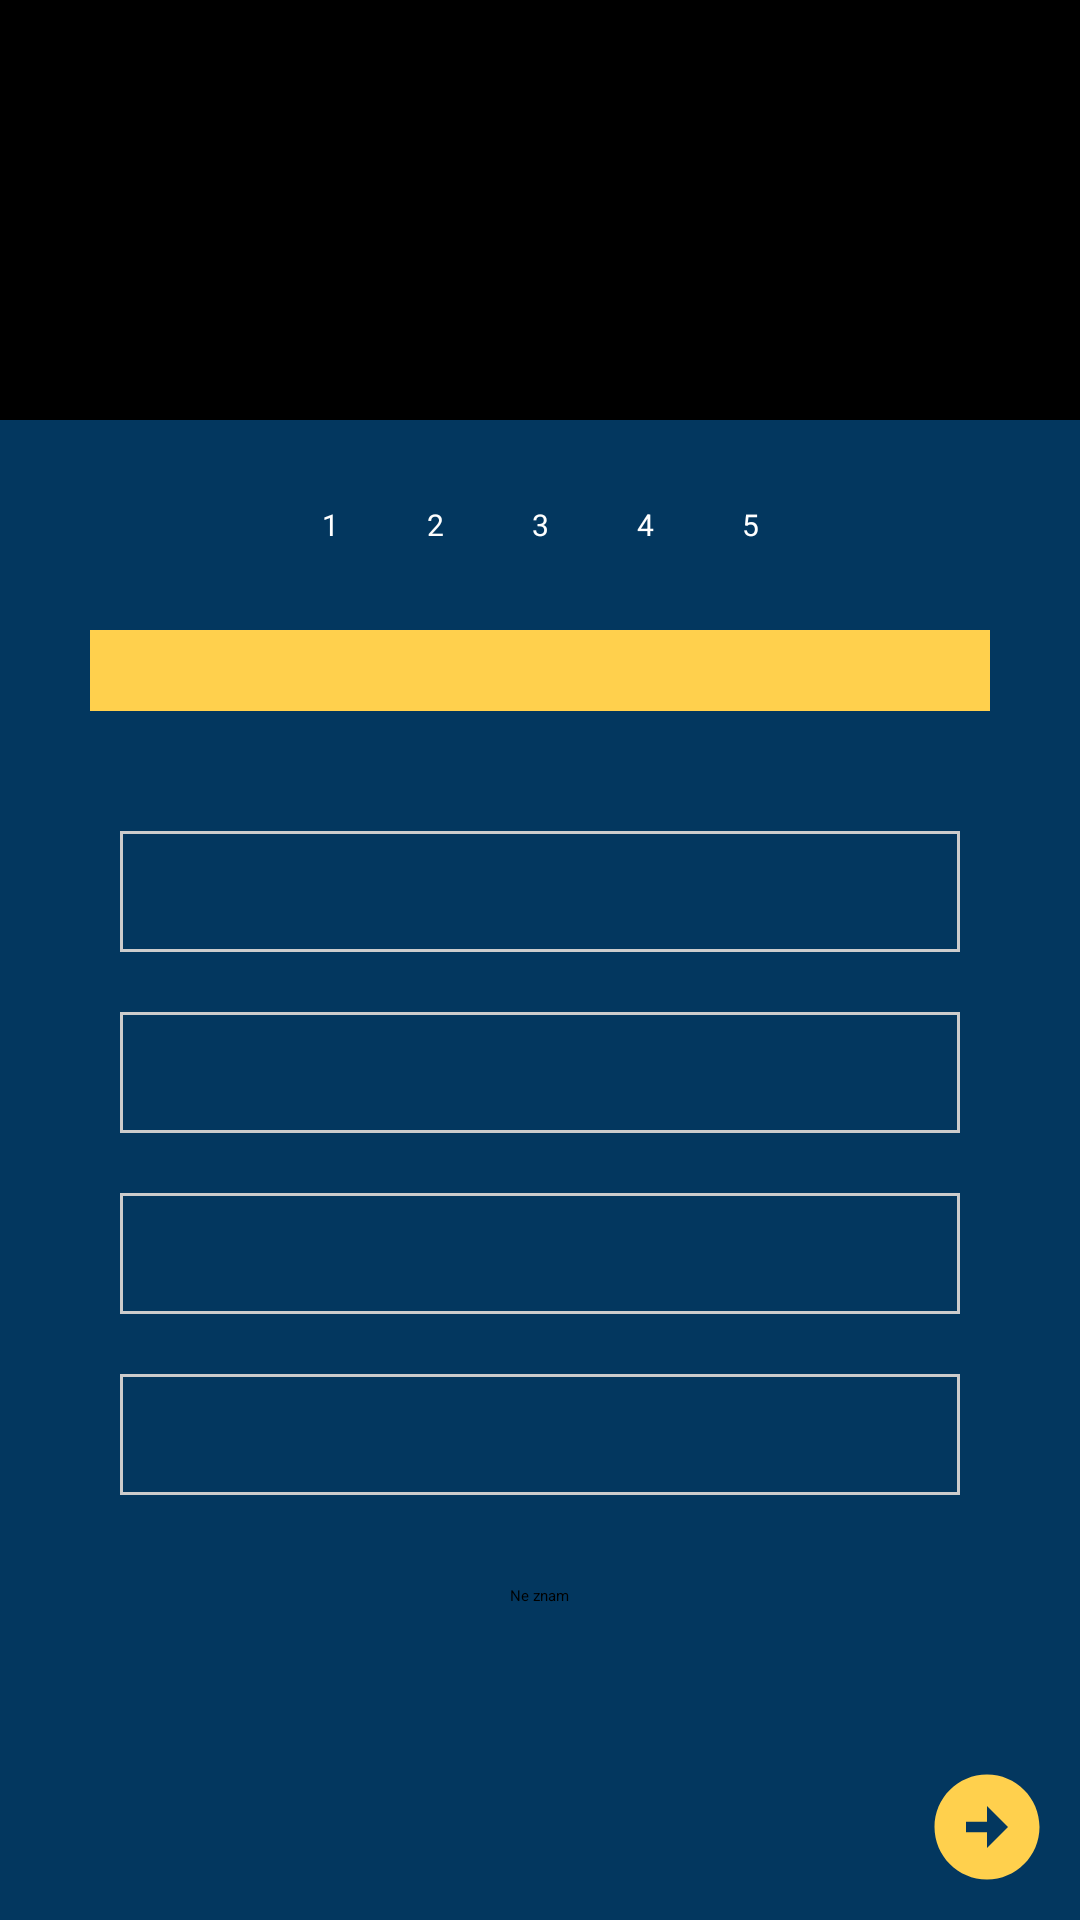

Where icons sit on this 1080px×1920px app screen, as (x1, y1, x2, y2):
right arrow: (934, 1774, 1040, 1880)
